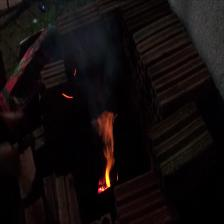fire: (90, 114, 119, 193)
